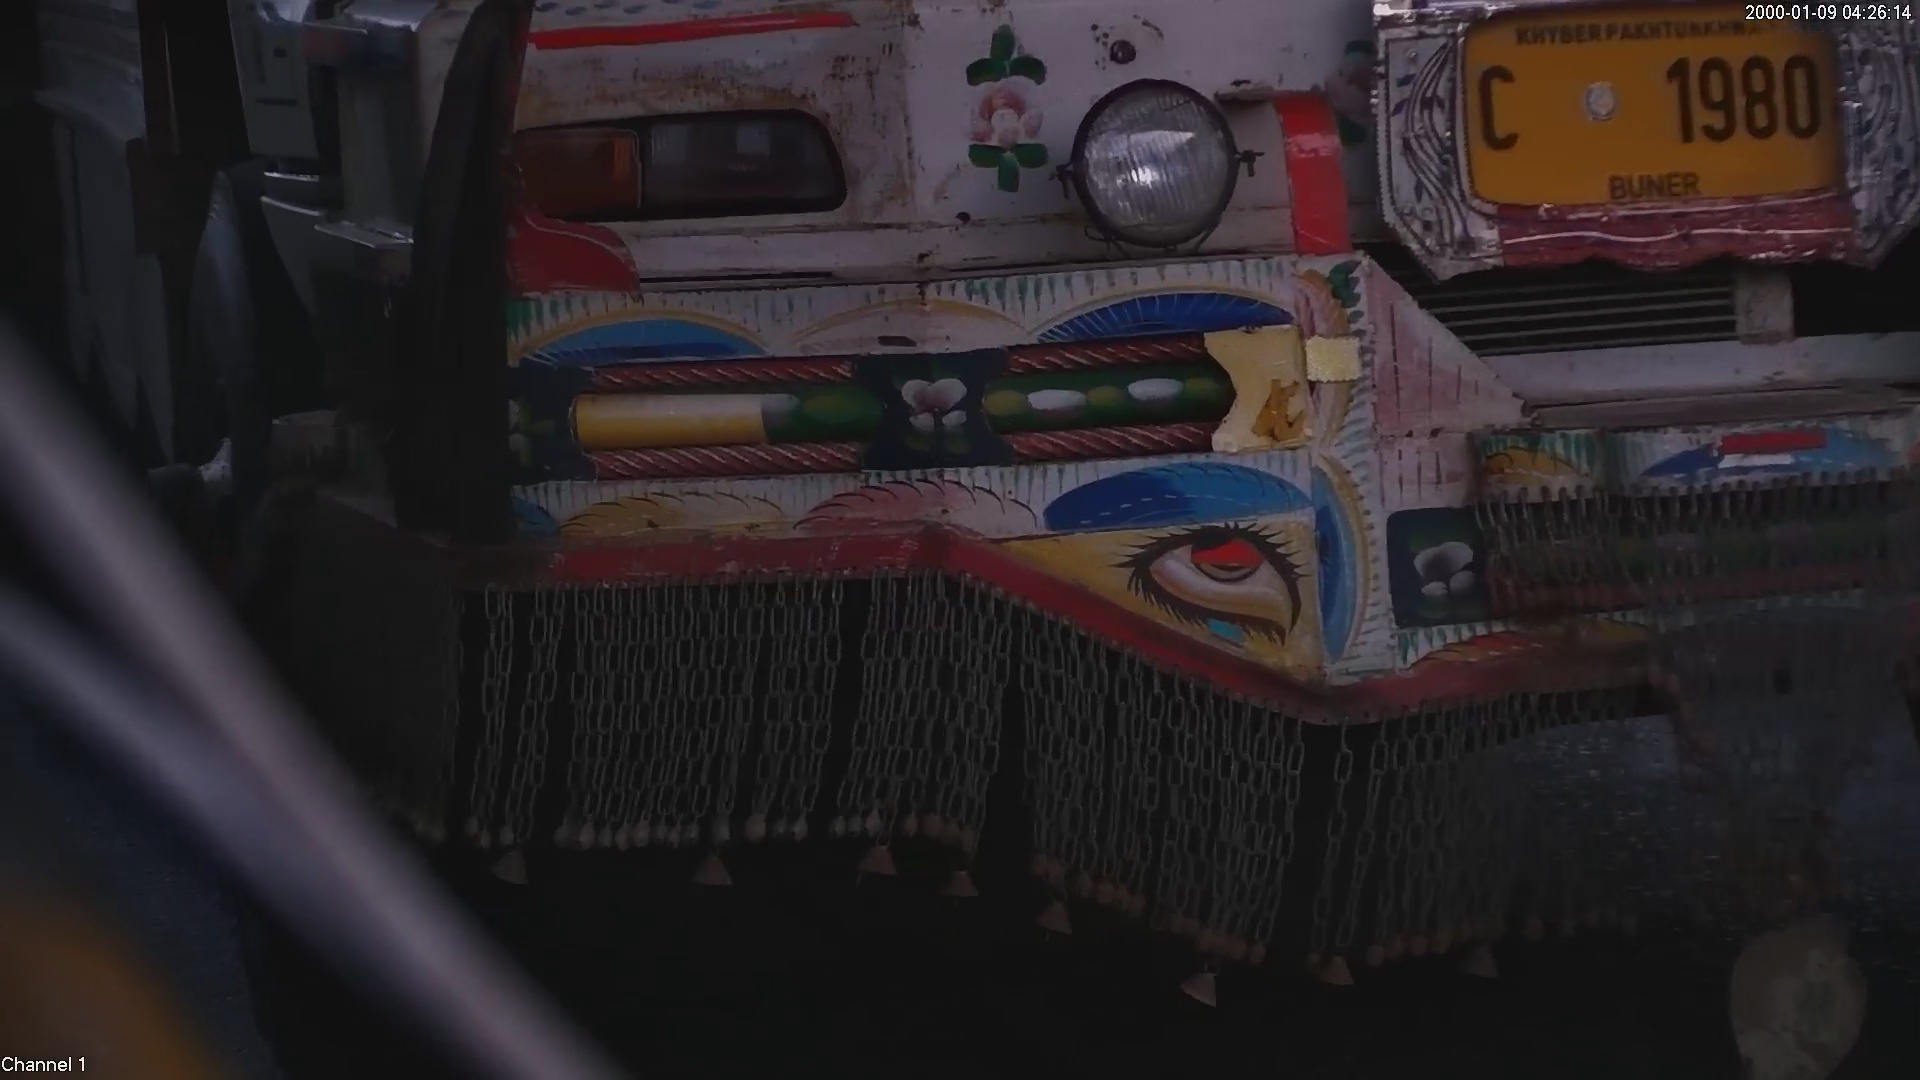Number_Plate: (1432, 3, 1863, 229)
